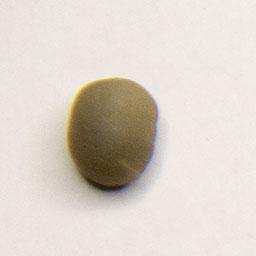peaberry: (62, 72, 163, 194)
